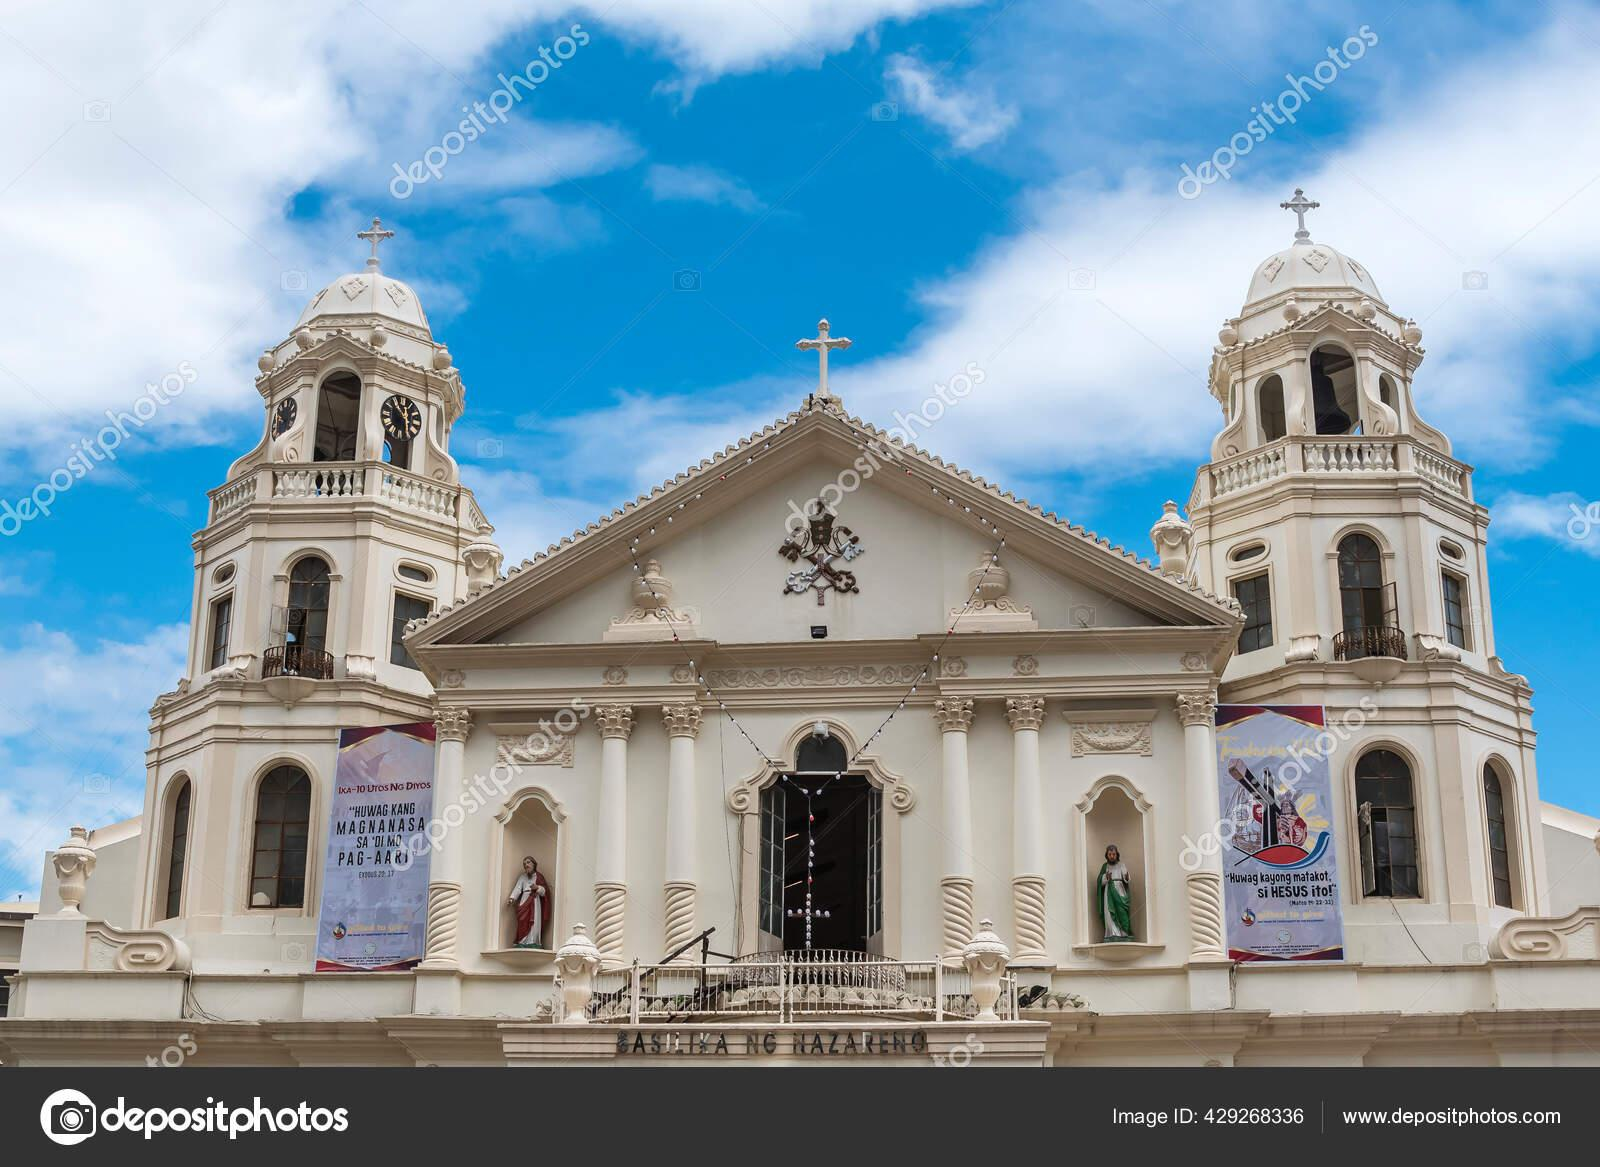quiapo_church_quiapo_manila: (118, 189, 1554, 1048)
